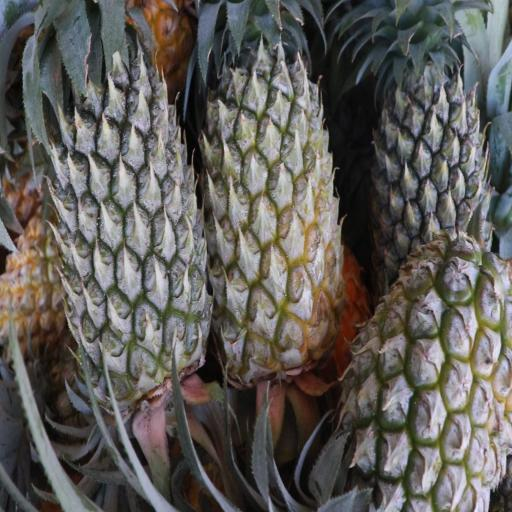------------------------------: (204, 12, 346, 366), (349, 242, 512, 511)
Pineapple - v8 v1: (0, 218, 71, 359)
